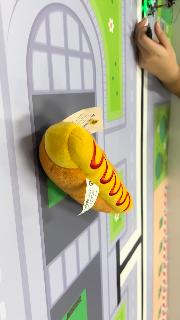hotdog: (38, 121, 134, 215)
